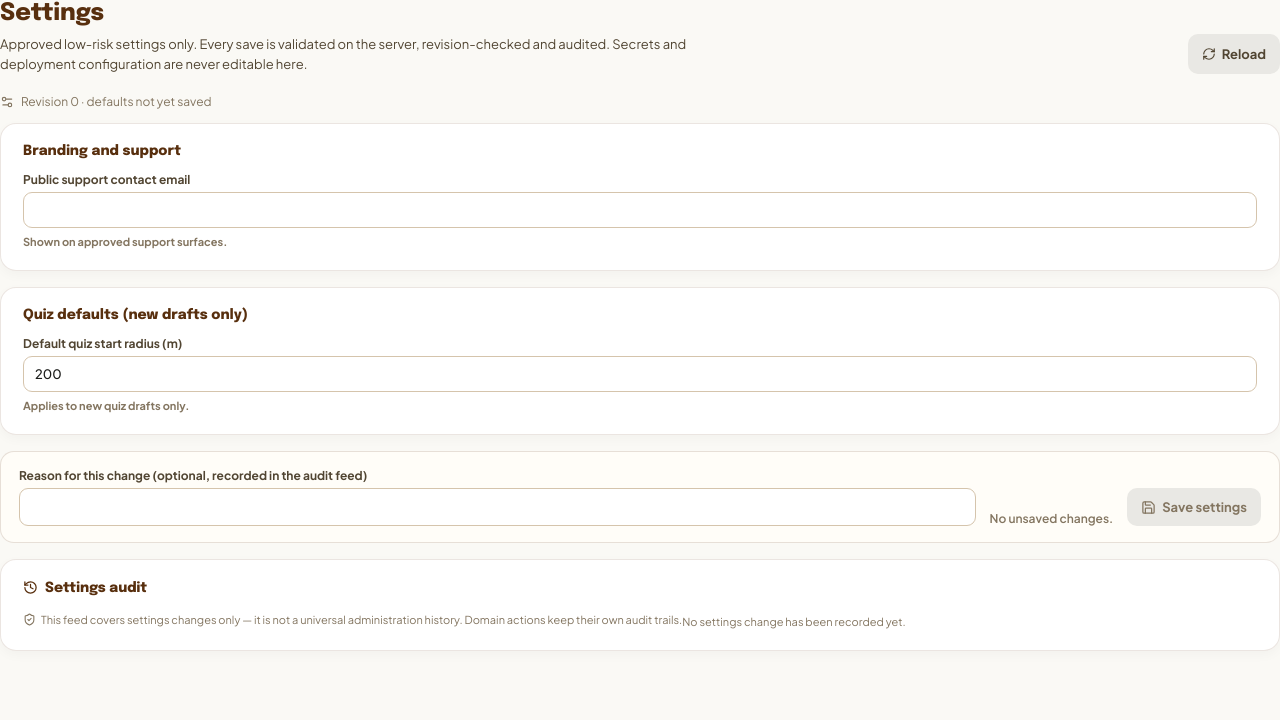
Test case: SettingsPage › shows a conflict with the server values and keeps unsaved local changes
The width and height of the screenshot is (1280, 720).
Type "mine@juanderquest.app" into the field labelled "Public support contact email".
click(640, 210); type("mine@juanderquest.app")  # box [23, 192, 1257, 228]
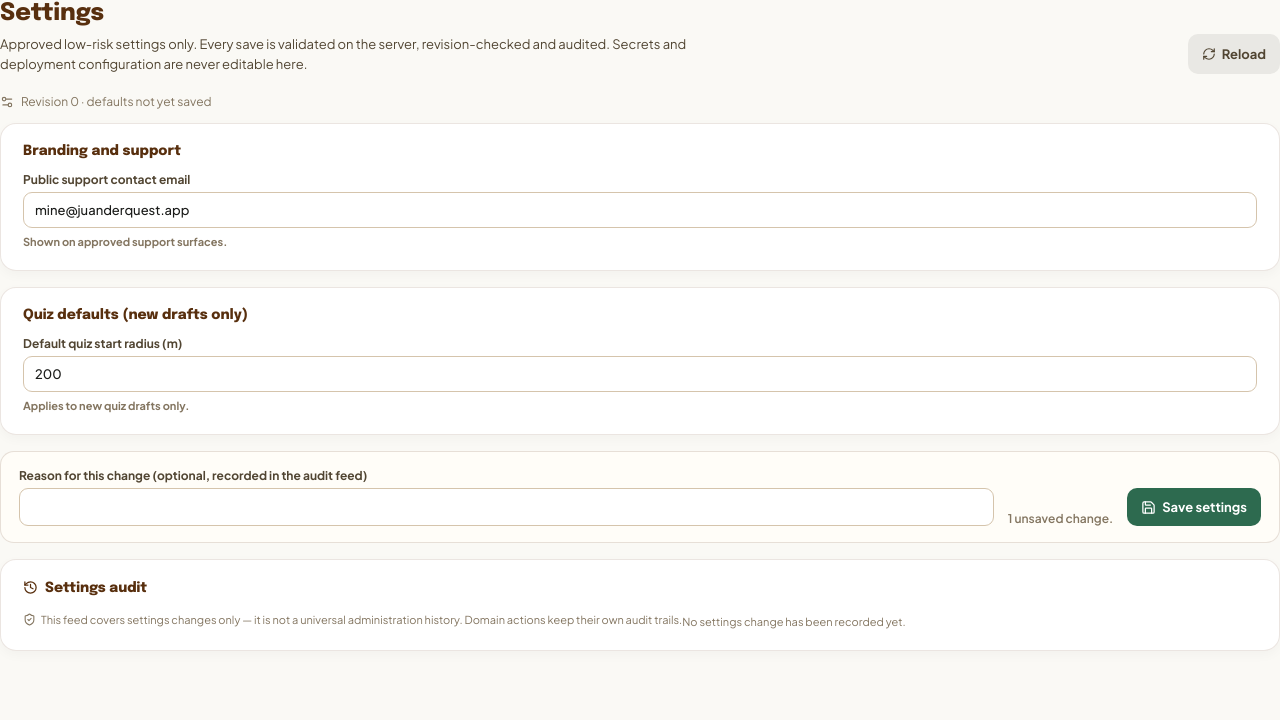
Click the button "Save settings".
click(1194, 507)  # box [1127, 488, 1261, 526]
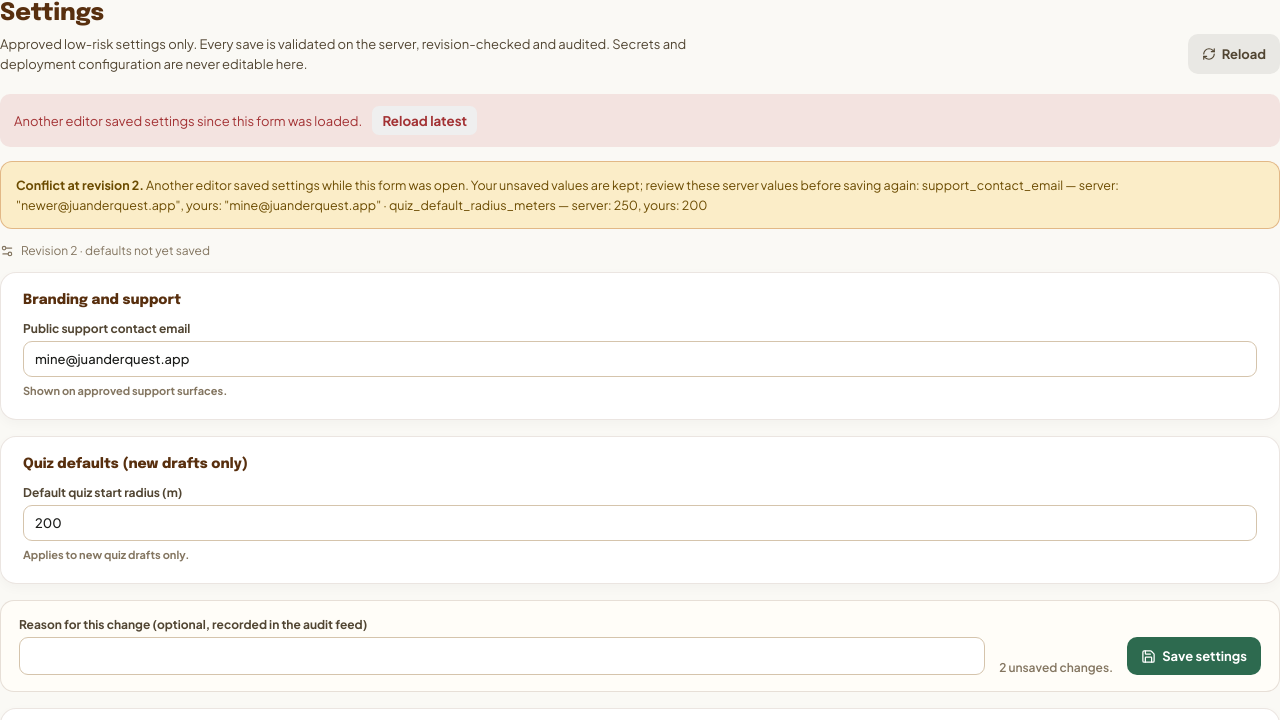
Expected: the text "Conflict at revision 2" is shown, [0, 161, 1279, 229]
Expected: the text "Conflict at revision 2" shows "newer@juanderquest.app", [16, 177, 1119, 213]
Expected: the text "Conflict at revision 2" shows "mine@juanderquest.app", [16, 177, 1119, 213]
